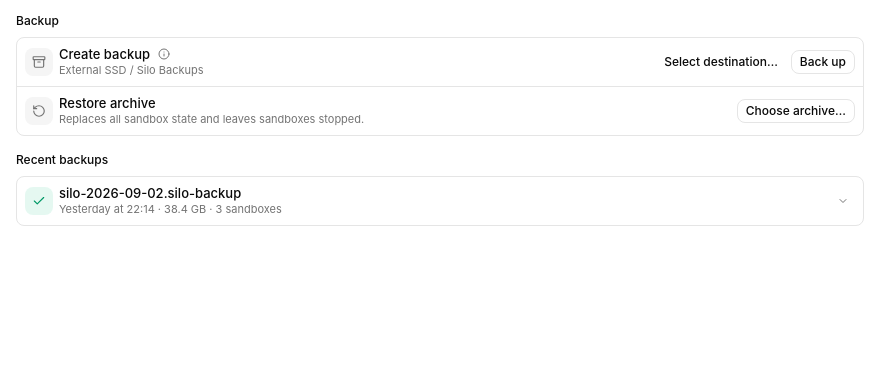
Test: BackupPage › keeps failed backups out of history and lets the destination be changed before retrying
Click the button "Back up". click: click(823, 62)
box: [791, 50, 855, 74]
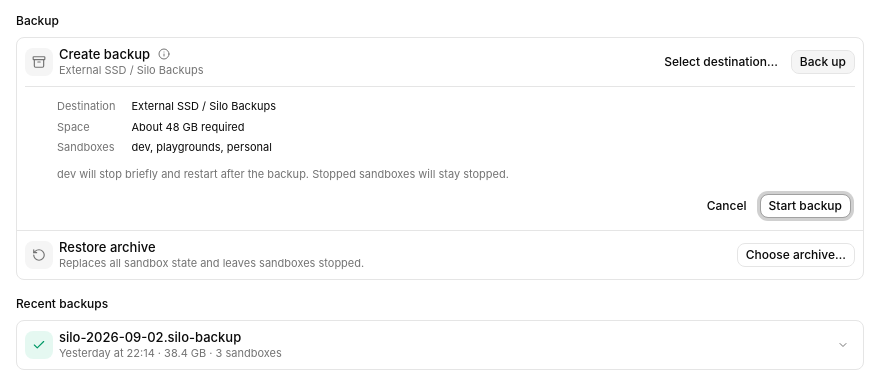
Click the button "Start backup". click: click(805, 206)
box: [760, 194, 851, 218]
Wait 6400 ms
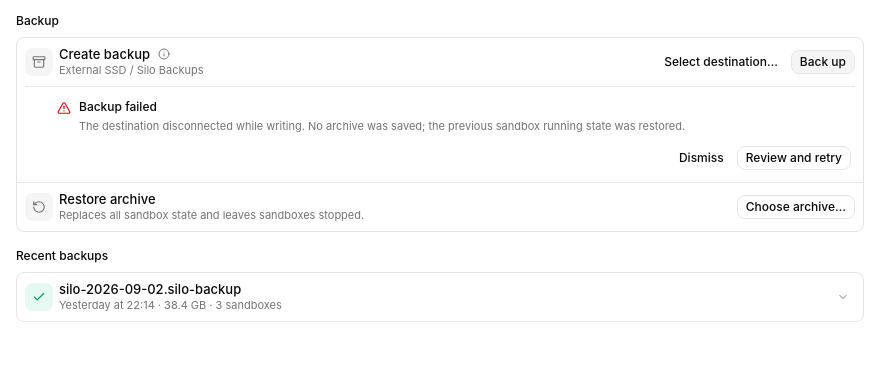
Now the message shows "Backup failed", box [57, 99, 685, 133]
Click the button "Review and retry". click: click(794, 158)
box: [737, 146, 851, 170]
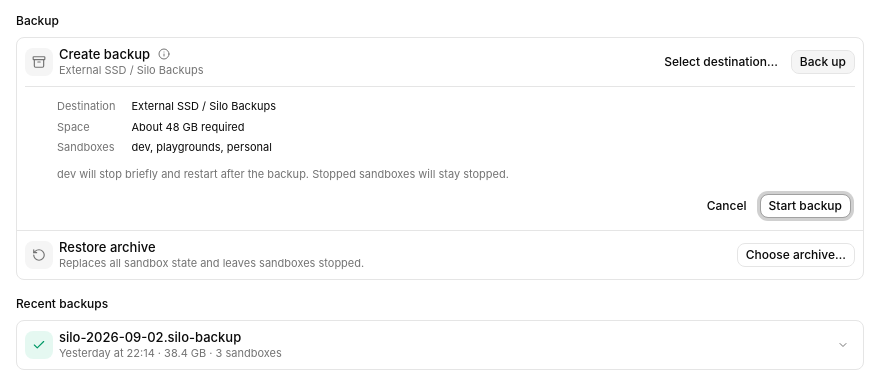
Expected: the button "Select destination…" is enabled, [655, 50, 787, 74]
Now the element named "Review backup" is shown, box [25, 86, 855, 230]
